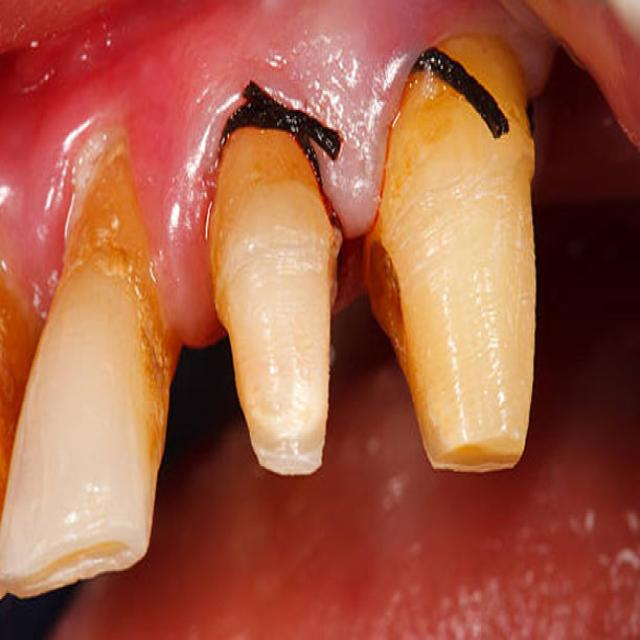caries: (358, 239, 414, 357)
